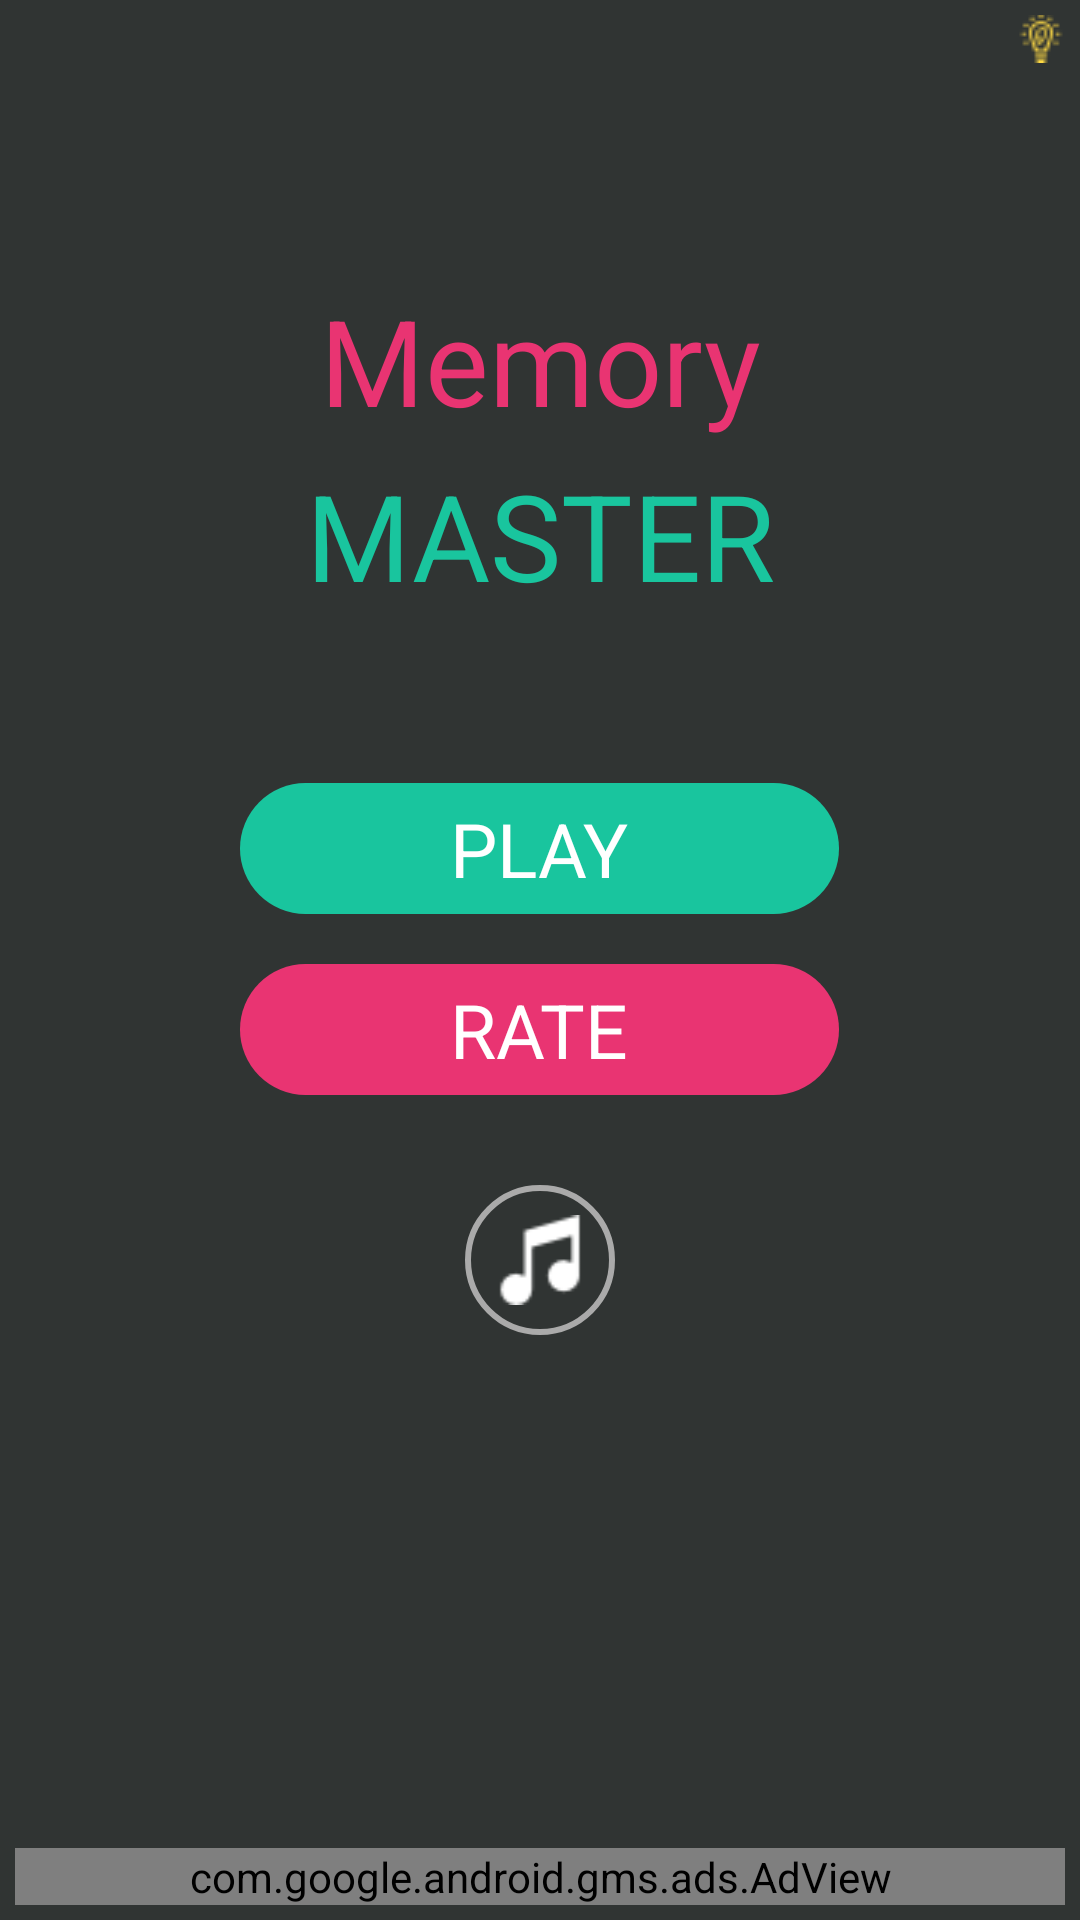

Named icons in this screenshot (1080x1920) and their centers, (x,y):
lightbulb: (1041,39)
music: (540,1260)
